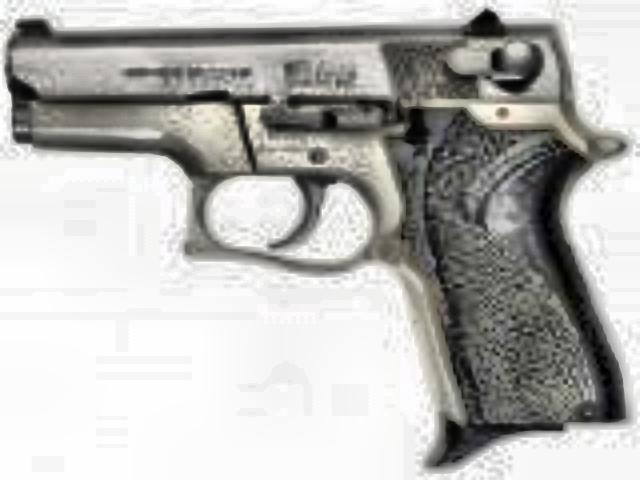pistol: (16, 8, 632, 472)
